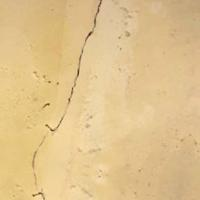crack: (25, 3, 111, 199)
